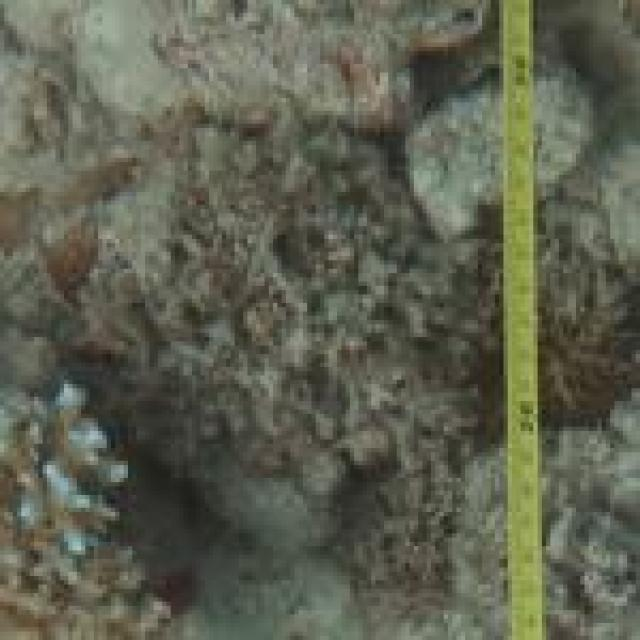Dead Coral: (67, 122, 510, 462)
